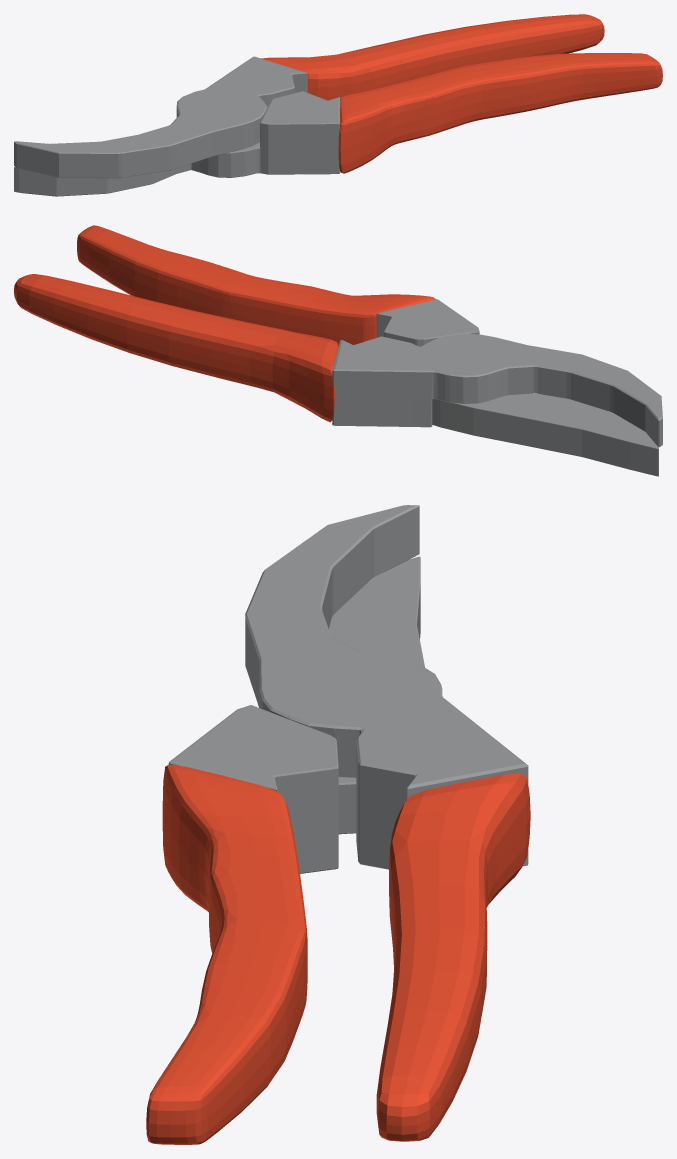
File: pruner.fbx
3 renders of one model, top to bottom at view 1: azimuth 30°, elevation 25°; view 2: azimuth 150°, elevation 25°; view 3: azimuth 270°, elevation 25°, orthographic. The views are drawn at different scales.
Parts seen in each view (by area): view 1: Cube.002, Cube, Cube.003, Cube.001; view 2: Cube, Cube.003, Cube.002, Cube.001; view 3: Cube, Cube.002, Cube.003, Cube.001.
Part boxes in pixels (<box>): Cube.002: <box>338,53,662,173</box>; Cube: <box>14,56,307,178</box>; Cube.003: <box>261,14,604,100</box>; Cube.001: <box>14,91,340,196</box>; Cube: <box>332,333,662,447</box>; Cube.003: <box>14,274,338,422</box>; Cube.002: <box>77,225,435,345</box>; Cube.001: <box>376,299,658,476</box>; Cube: <box>245,505,528,869</box>; Cube.002: <box>146,764,307,1144</box>; Cube.003: <box>376,773,530,1141</box>; Cube.001: <box>168,556,424,873</box>.
Size of the model in its own units: 488 by 42.63 by 139.
